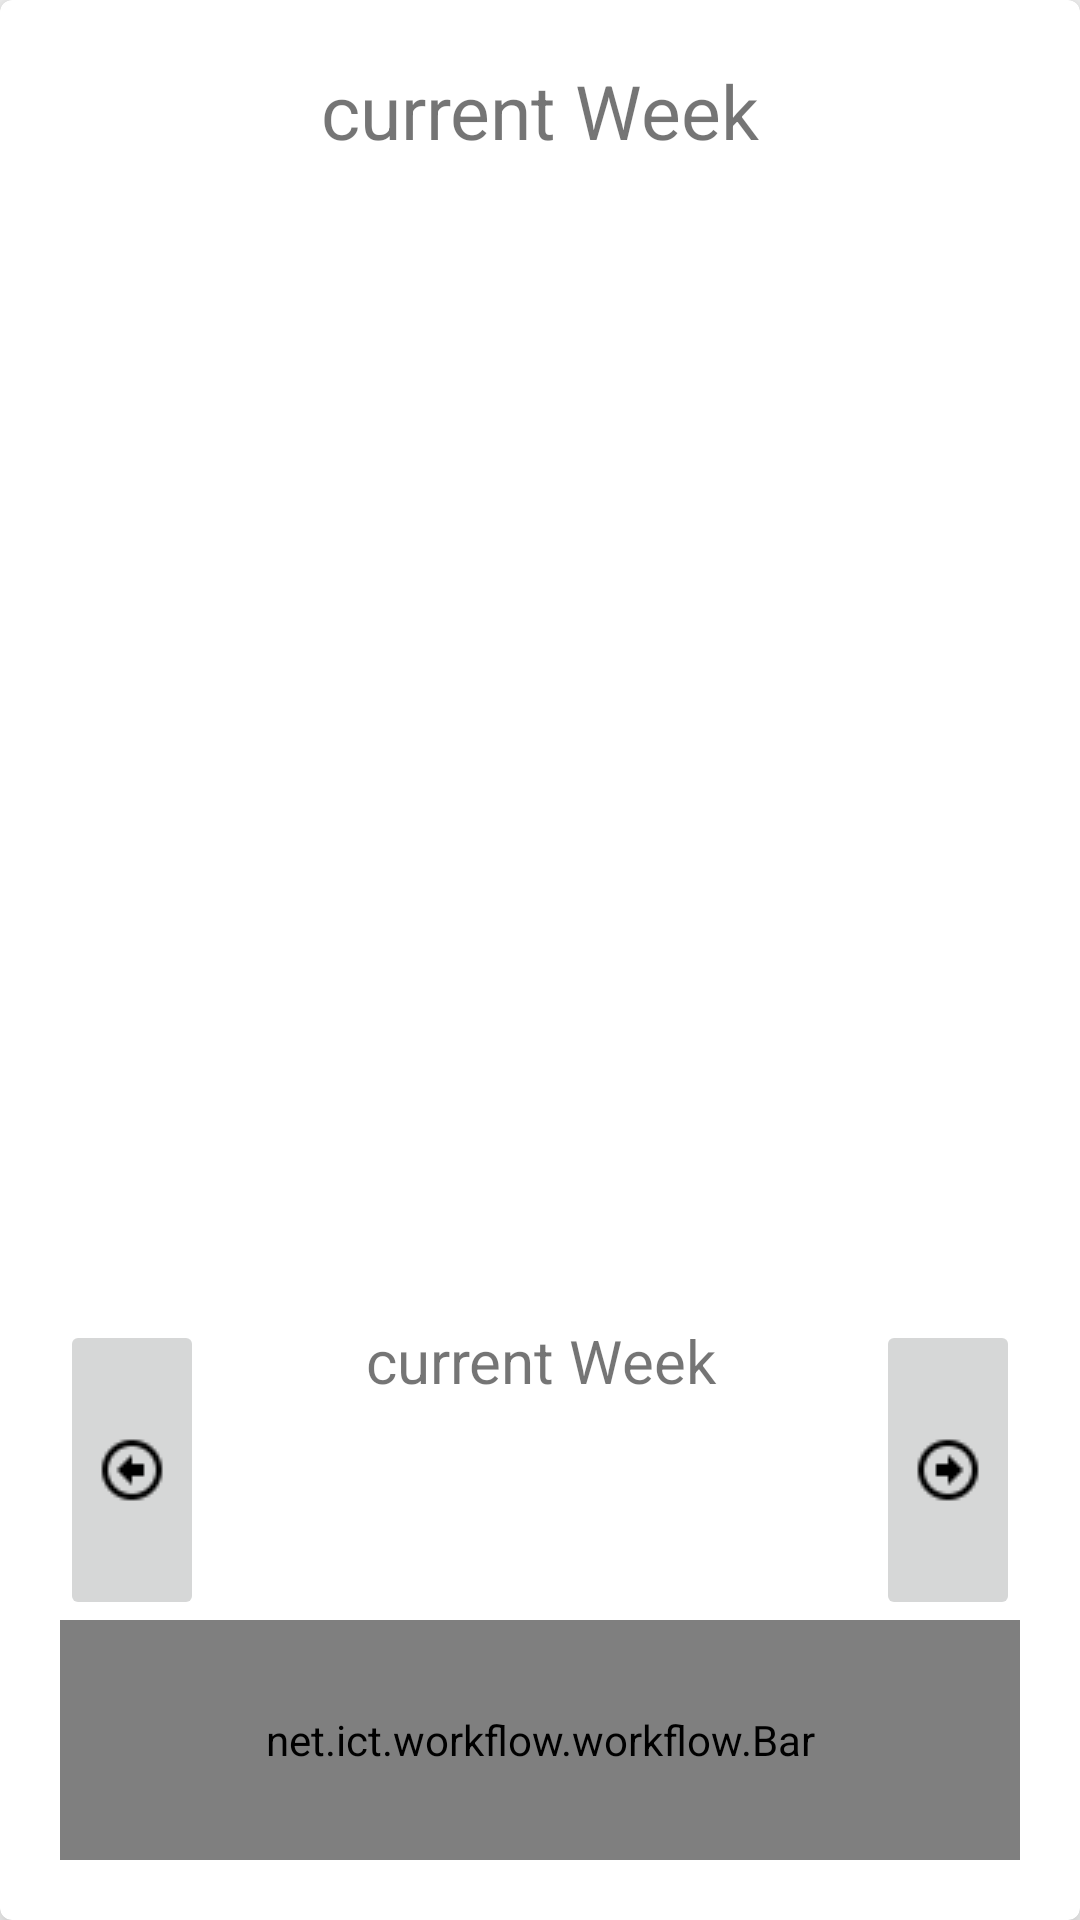

Screen size 1080 x 1920. Icon name, then its box in pixels as (x1, y1, x2, y2):
arrow left: (72, 1338, 192, 1602)
arrow right: (888, 1338, 1008, 1602)
